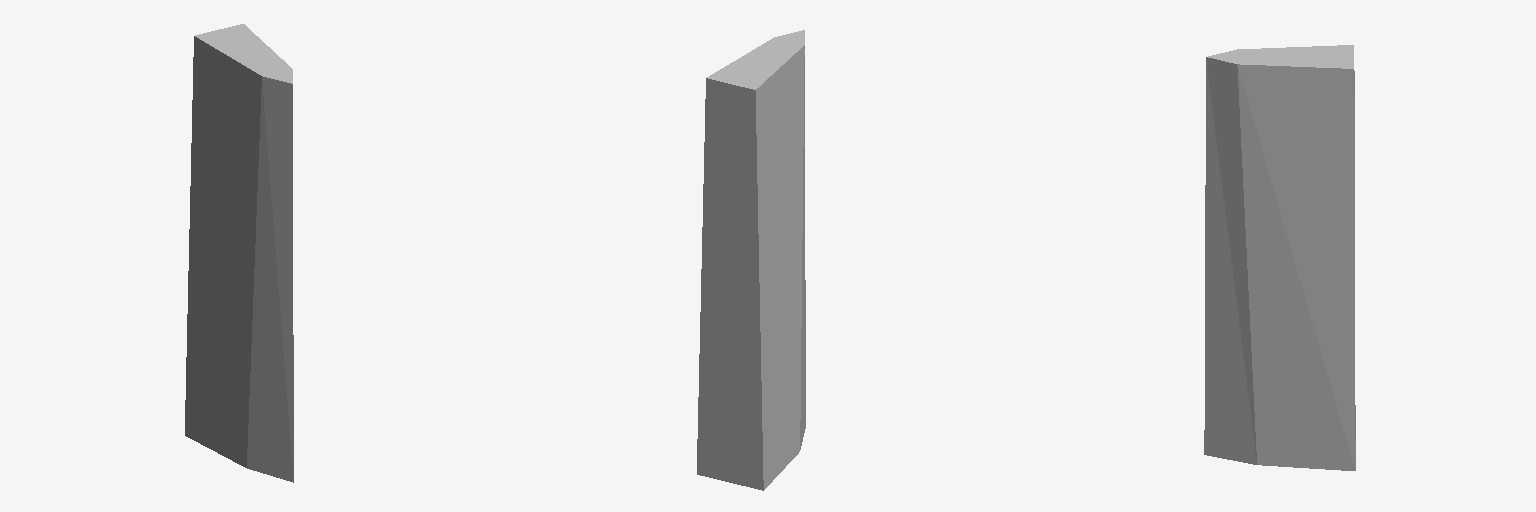
The model's file is verticalflap.obj.
The picture shows the model from 3 angles: view 1: azimuth 30°, elevation 25°; view 2: azimuth 150°, elevation 25°; view 3: azimuth 270°, elevation 25°; orthographic projection.
Parts seen in each view (by area): view 1: vert_flap; view 2: vert_flap; view 3: vert_flap.
Boxes of the visible parts, <box> form: vert_flap: <box>185,24,293,482</box>; vert_flap: <box>697,30,805,490</box>; vert_flap: <box>1204,45,1355,470</box>.
Size of the model in its own units: 2.97 by 16.86 by 5.8.